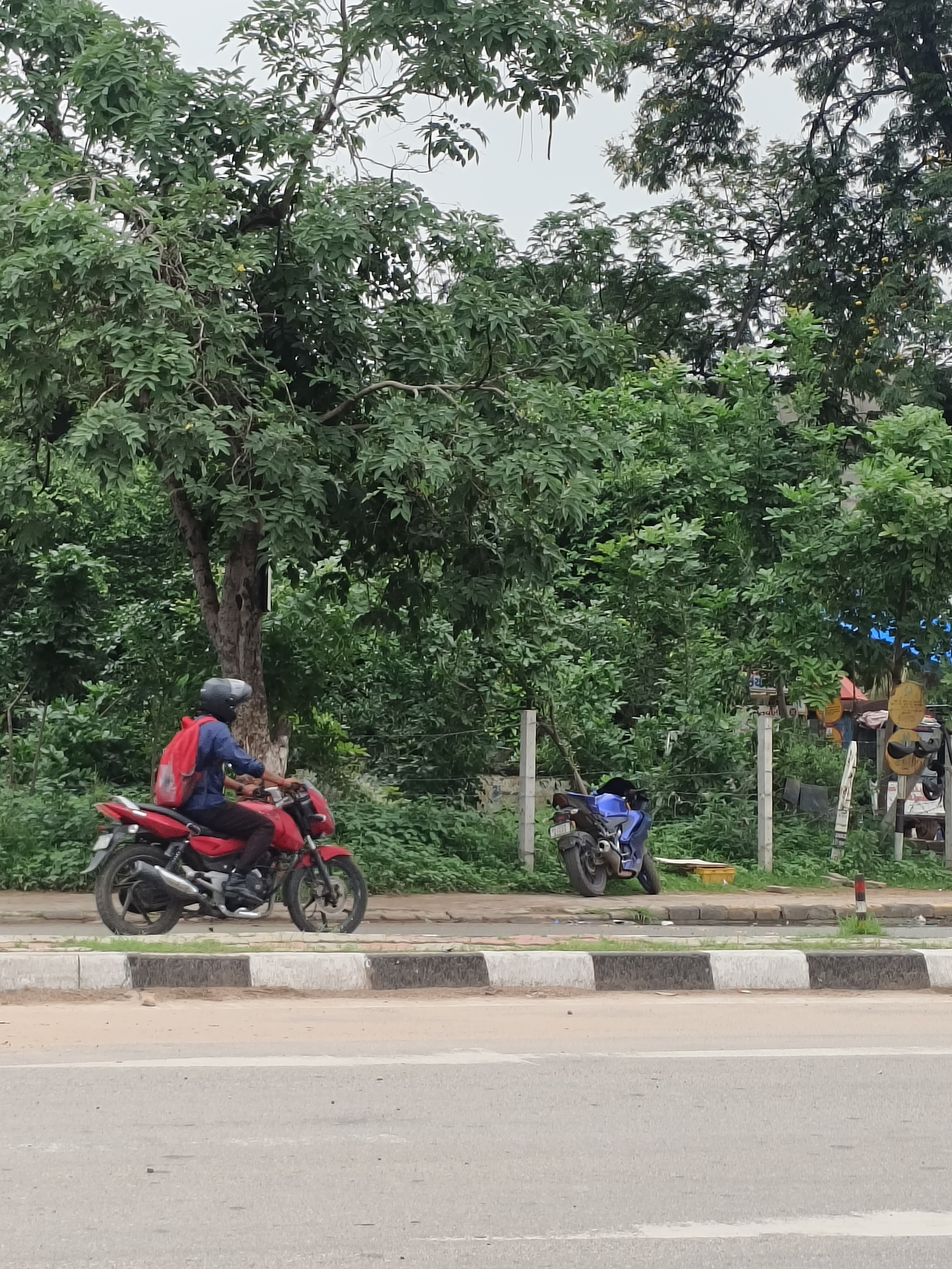BikeWithRider: (54, 639, 387, 955)
Helmet: (183, 658, 263, 730)
